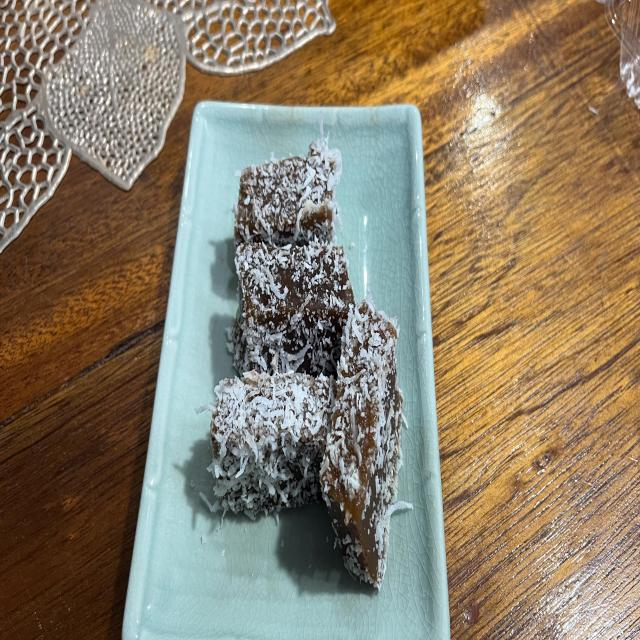kaswi: (320, 298, 411, 587), (209, 371, 334, 520), (229, 242, 354, 376), (234, 136, 341, 247)
